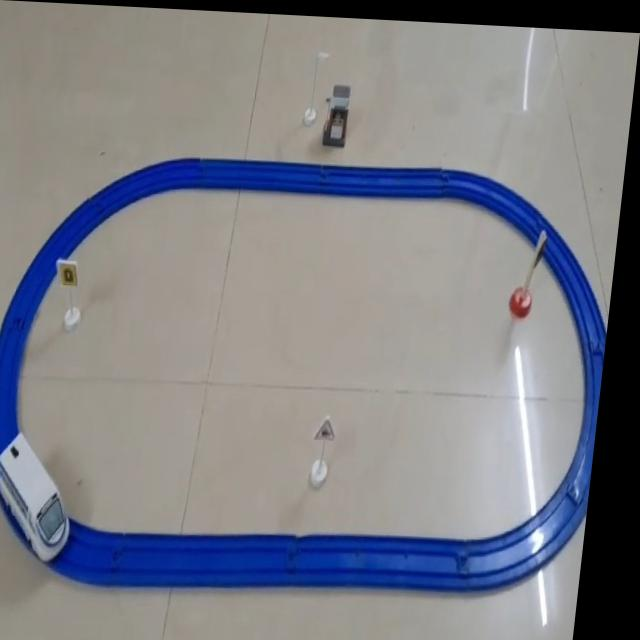bus: (0, 429, 91, 561)
